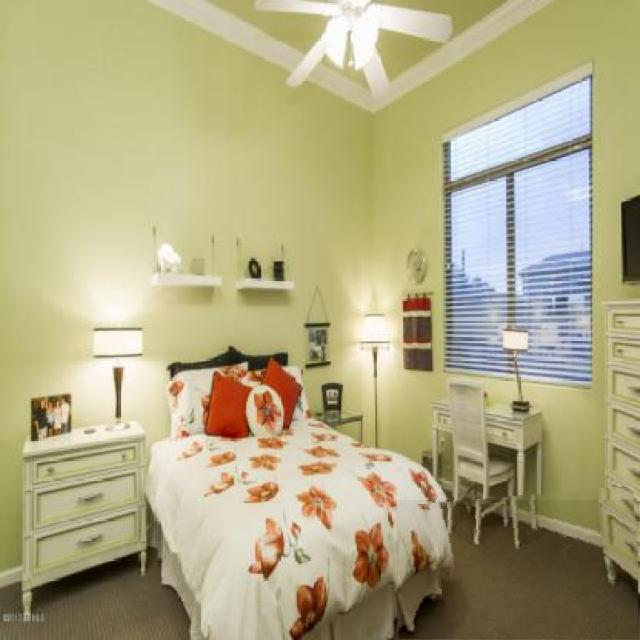floor: (0, 548, 393, 640), (398, 500, 639, 640)
